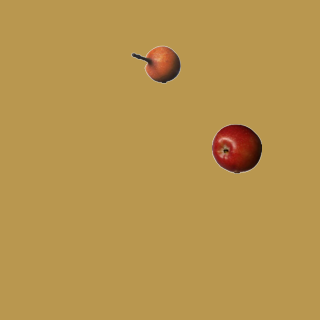Apple Braeburn: (211, 123, 261, 173)
Granadilla: (130, 39, 180, 89)
